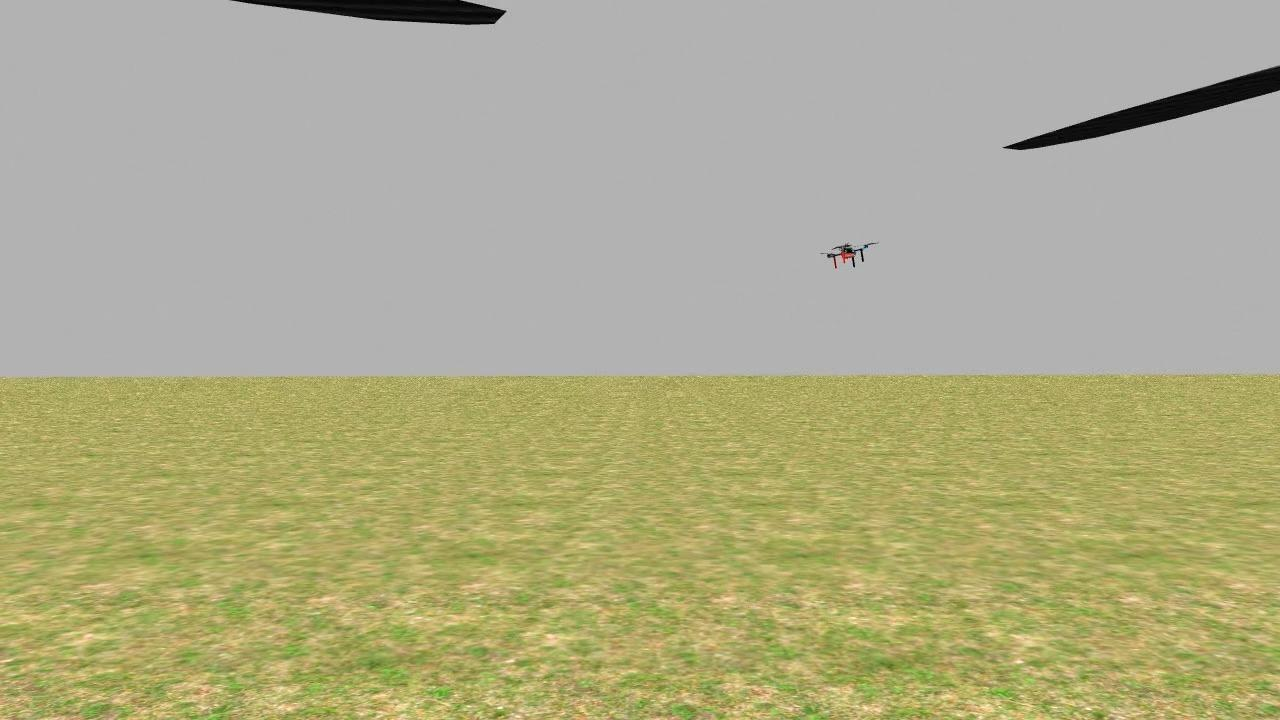UAV: (809, 226, 884, 276)
